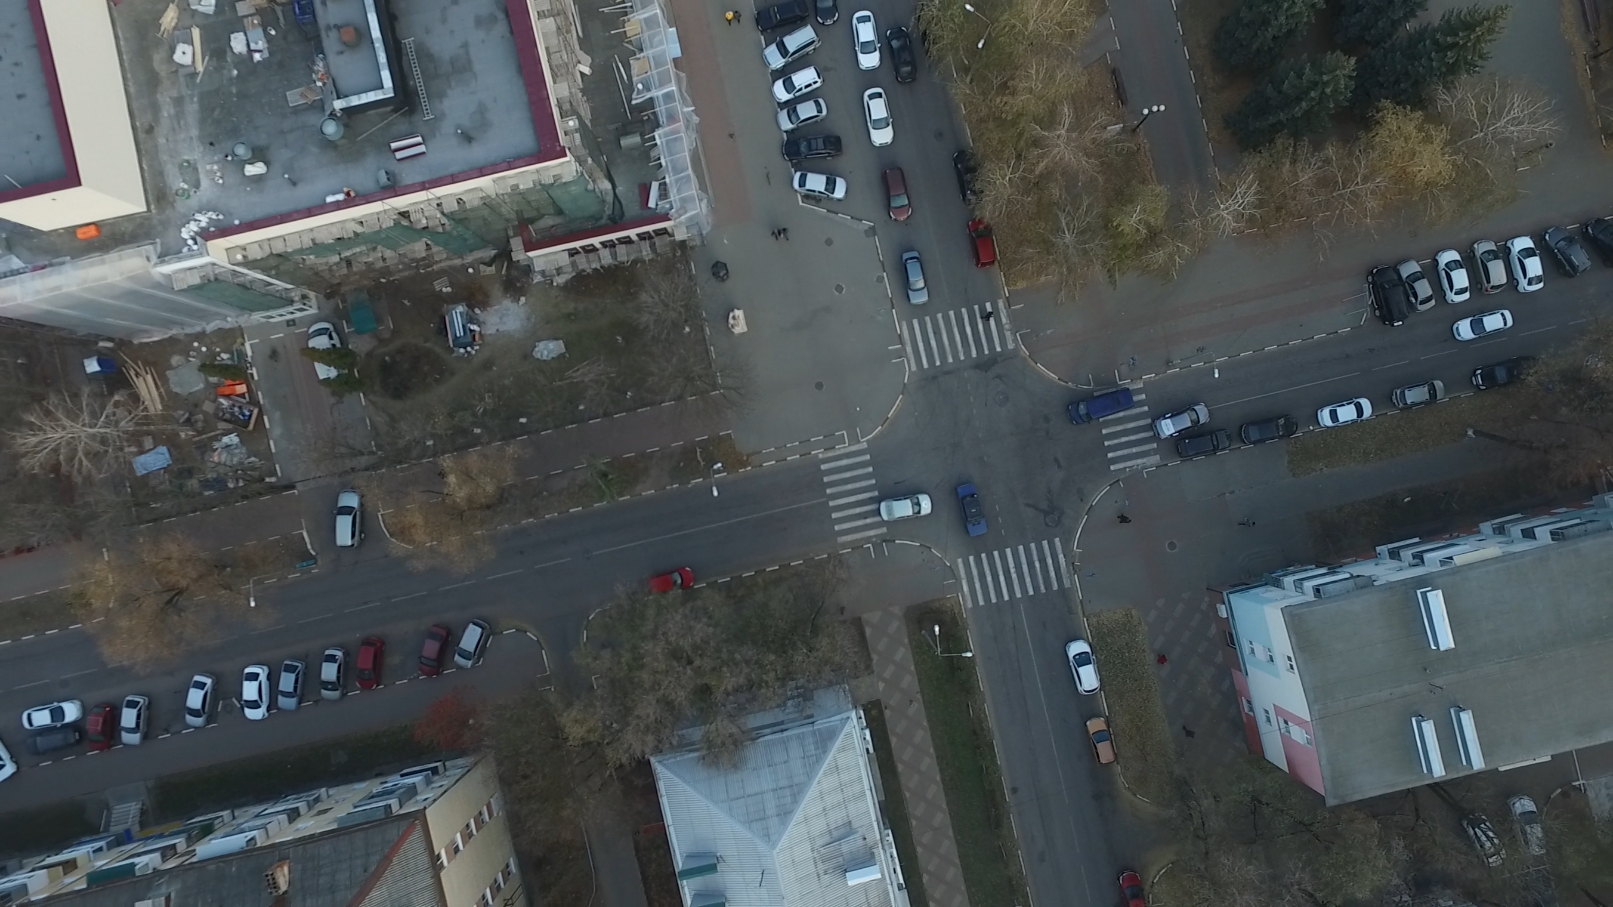car: (1506, 795, 1554, 866), (300, 322, 348, 389), (1366, 262, 1411, 327), (761, 22, 821, 70), (1544, 225, 1594, 278), (1463, 811, 1510, 866), (1066, 388, 1131, 425), (1466, 238, 1507, 298), (1157, 400, 1215, 441), (1064, 641, 1105, 699), (332, 489, 368, 556), (1449, 308, 1520, 341), (1471, 355, 1539, 390), (21, 695, 84, 730), (770, 65, 828, 102), (949, 151, 988, 205), (953, 482, 992, 535), (885, 27, 919, 86), (861, 86, 895, 146), (1398, 261, 1436, 316), (1435, 247, 1470, 305), (1508, 235, 1542, 293), (182, 674, 219, 728), (240, 661, 273, 723), (850, 10, 882, 72), (454, 618, 494, 668), (277, 658, 309, 719), (753, 1, 815, 32), (82, 703, 119, 754), (897, 249, 931, 305), (418, 626, 452, 679), (1240, 414, 1301, 444), (882, 165, 914, 221), (881, 491, 935, 524), (966, 214, 999, 268), (788, 171, 847, 200), (1083, 717, 1120, 765), (1317, 396, 1373, 427), (775, 96, 826, 130), (1391, 379, 1446, 410), (1175, 427, 1232, 456), (784, 134, 842, 162), (645, 566, 698, 596), (120, 695, 151, 744), (357, 638, 382, 691), (1588, 220, 1613, 272), (320, 645, 343, 701), (1119, 866, 1148, 907), (1, 736, 18, 789), (809, 1, 841, 27)
